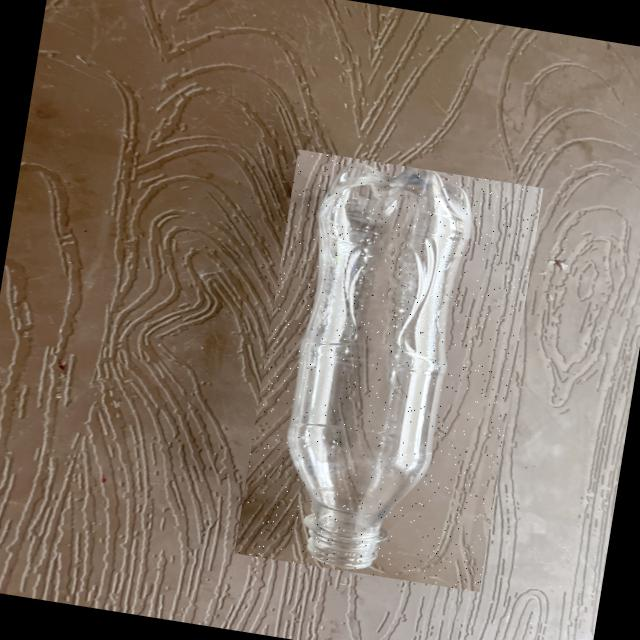PET_ClearBottle: (234, 150, 544, 592)
